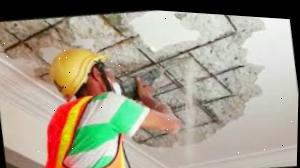spalling: (0, 11, 266, 148)
